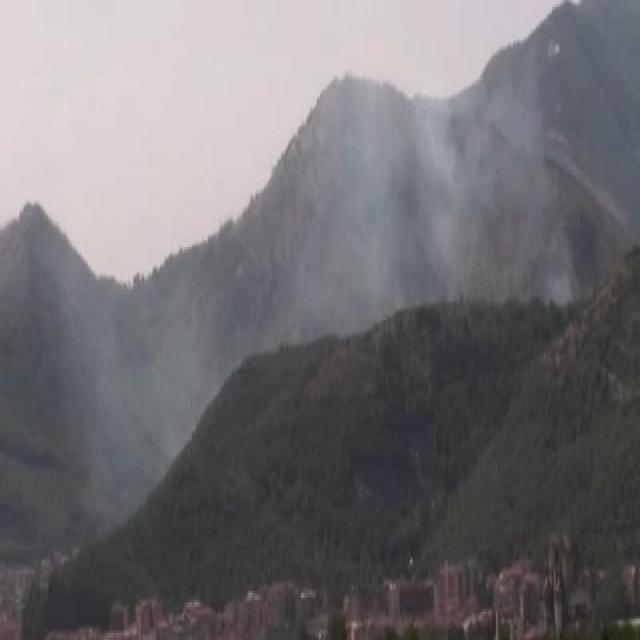smoke: (311, 93, 511, 305)
